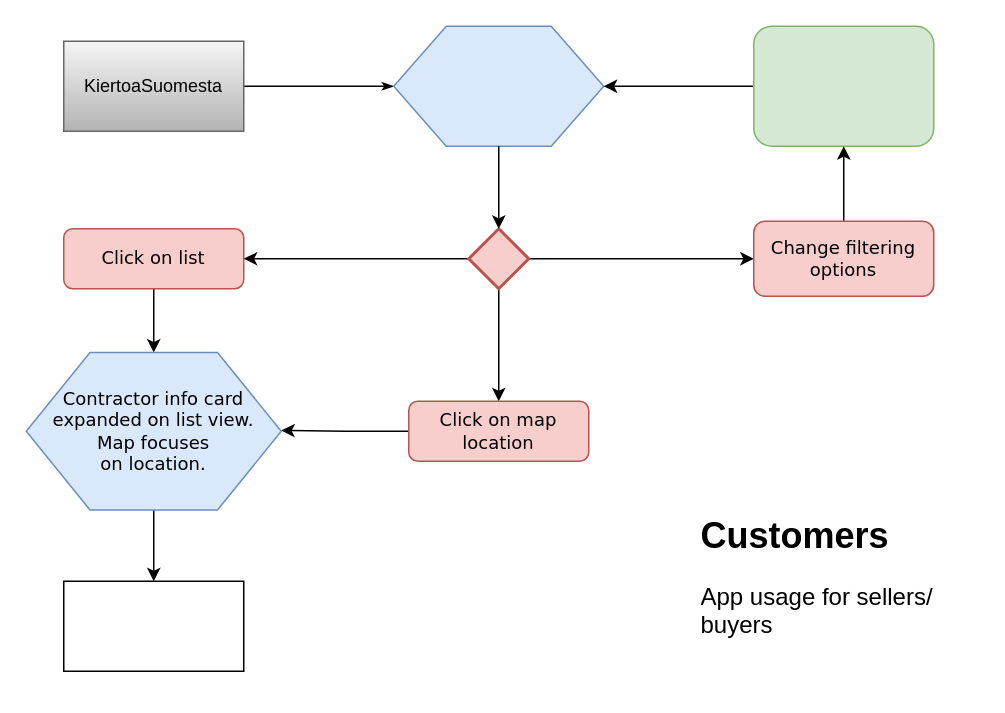
This 1005x713 diagram has some shape labels left out. Here are the shapes that lost their labels. From the top down, the box of each, then its label:
(392, 25, 604, 146): Chosen product. Suitable contractors on list and map
(752, 25, 934, 146): Reconstruct / sort optimal list
(62, 580, 244, 671): Contact options
